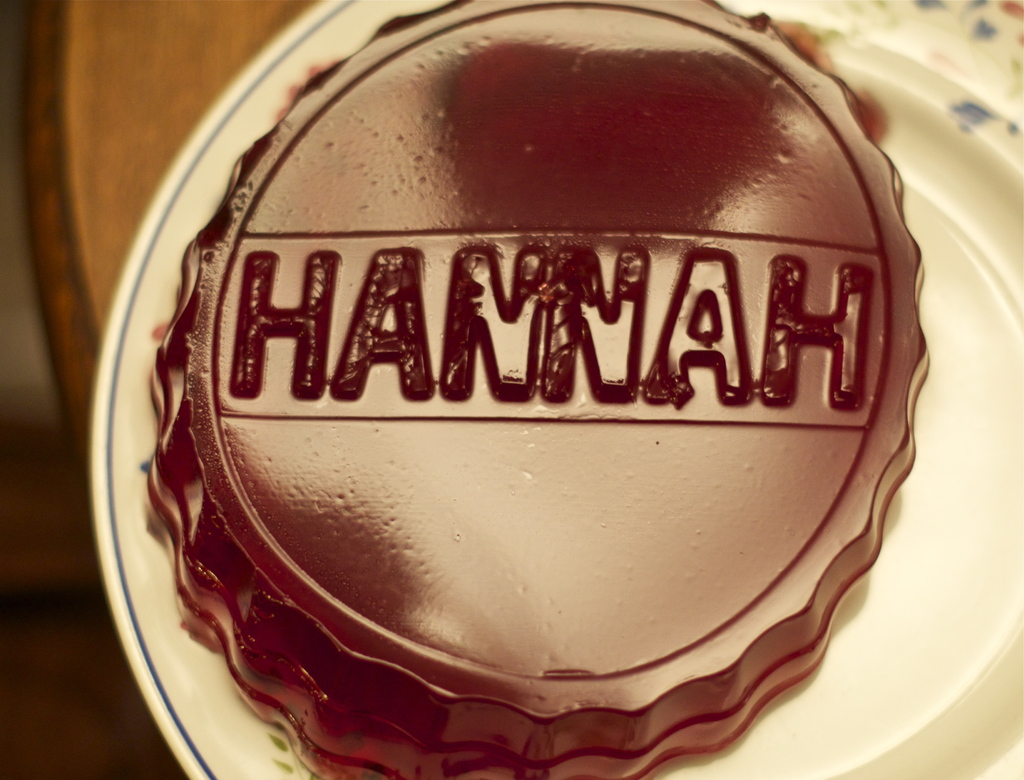cake: (129, 0, 939, 779)
